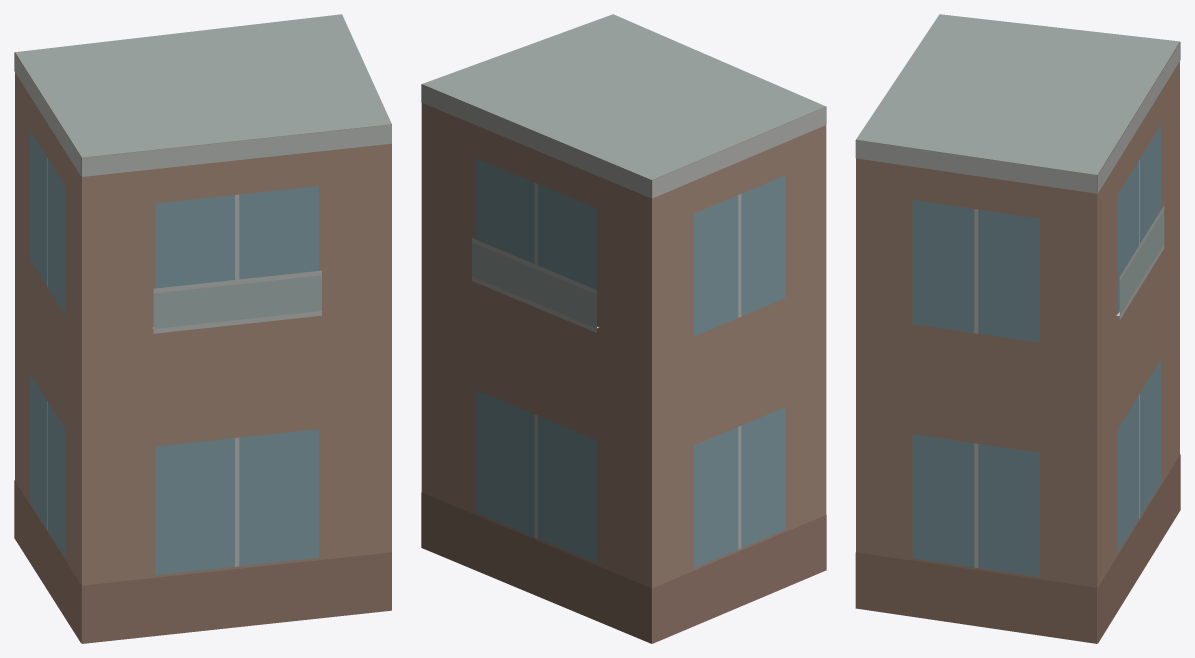
The model's file is survey-upis-32547151.glb.
3 renders of one model, left to right at view 1: azimuth 30°, elevation 25°; view 2: azimuth 150°, elevation 25°; view 3: azimuth 270°, elevation 25°, orthographic. The views are drawn at different scales.
Parts seen in each view (by area): view 1: survey-upis-32547151.tmp; view 2: survey-upis-32547151.tmp; view 3: survey-upis-32547151.tmp.
Part boxes in pixels (box(x1,y1,x2,y2)): survey-upis-32547151.tmp: box(14, 14, 391, 643); survey-upis-32547151.tmp: box(421, 14, 826, 643); survey-upis-32547151.tmp: box(855, 14, 1180, 643).
Bounding box in the file's own units: 4.5 × 6.1 × 3.84.
